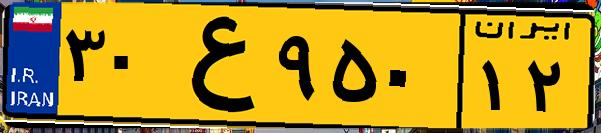0: (385, 28, 445, 110), (110, 28, 158, 98)
1: (475, 38, 525, 113)
2: (525, 38, 570, 115)
3: (57, 26, 110, 100)
5: (330, 28, 385, 110)
9: (270, 28, 330, 110)
ع: (158, 12, 270, 120)
